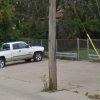Car: (1, 30, 44, 73)
